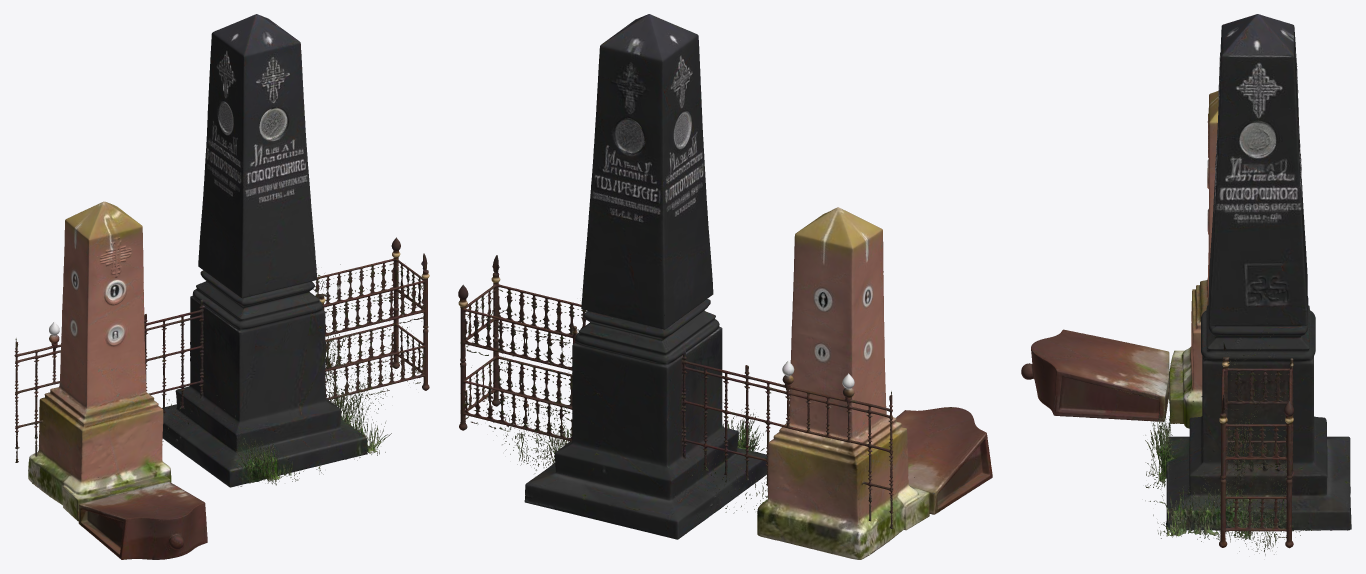
File: ignjat-todorovic.glb
3 renders of one model, left to right at view 1: azimuth 30°, elevation 25°; view 2: azimuth 150°, elevation 25°; view 3: azimuth 270°, elevation 25°, orthographic. The views are drawn at different scales.
Size of the model in its own units: 1.8 by 1.9 by 1.19.
1 material, 1 textured.
